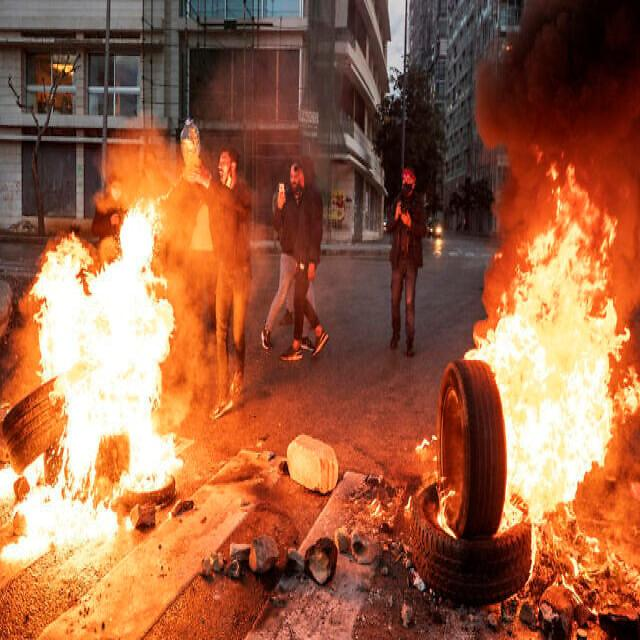fire: (465, 162, 629, 530), (29, 199, 183, 493), (0, 451, 116, 562)
